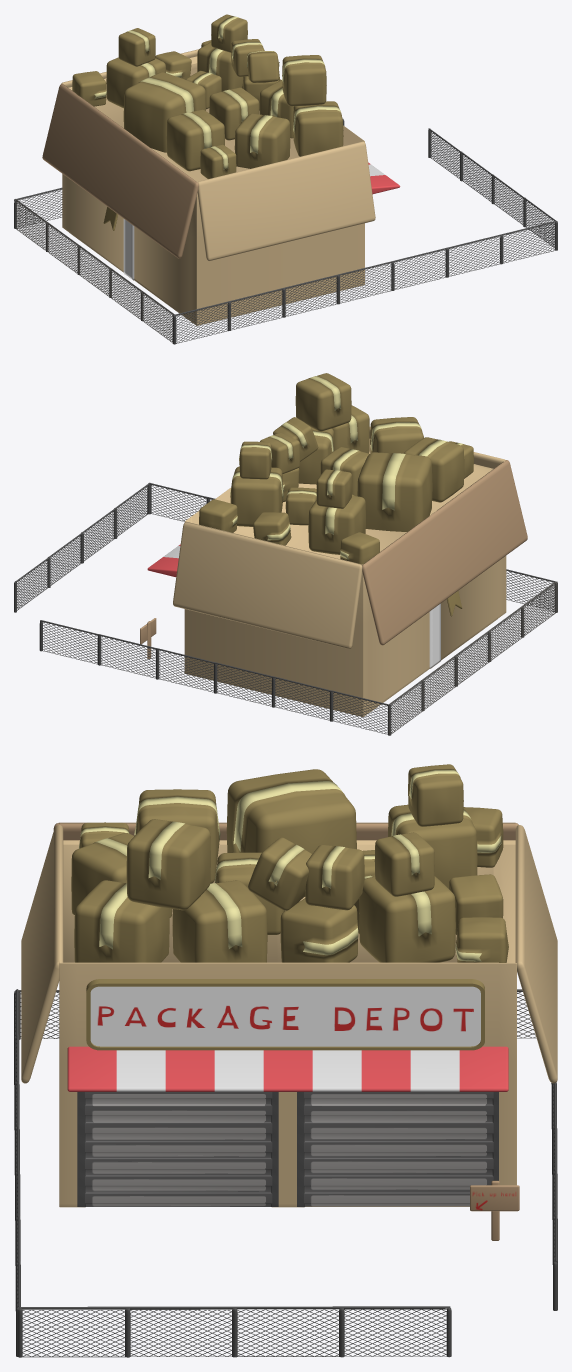
File: DepotFinal.fbx
3 renders of one model, top to bottom at view 1: azimuth 30°, elevation 25°; view 2: azimuth 150°, elevation 25°; view 3: azimuth 270°, elevation 25°, orthographic. The views are drawn at different scales.
Visible parts, largest first — view 1: depot, boxes, fences, umbrella; view 2: depot, boxes, fences, umbrella; view 3: depot, boxes, umbrella, fences, sign.002.
Part boxes in pixels (box(x1,y1,x2,y2)): depot: box(42, 49, 375, 325); boxes: box(72, 14, 343, 178); fences: box(14, 119, 557, 344); umbrella: box(368, 162, 400, 194); depot: box(173, 426, 527, 716); boxes: box(199, 373, 473, 564); fences: box(14, 482, 557, 735); umbrella: box(147, 544, 180, 577); depot: box(21, 822, 557, 1207); boxes: box(71, 764, 508, 962); umbrella: box(67, 1046, 508, 1091); fences: box(14, 989, 557, 1357); sign.002: box(470, 1180, 519, 1240).
Size of the model in its own units: 1983 by 1021 by 1423.
